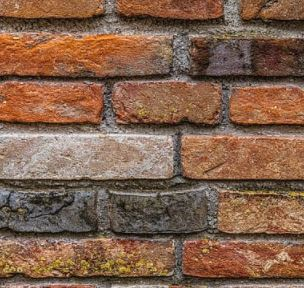brick: (1, 134, 176, 180), (1, 34, 177, 78), (1, 238, 176, 281), (181, 135, 304, 181), (188, 32, 304, 79), (113, 81, 221, 128), (180, 240, 304, 280), (110, 189, 212, 234), (1, 82, 107, 125), (1, 188, 103, 231), (216, 189, 304, 235), (225, 87, 304, 128), (113, 1, 225, 21), (1, 1, 103, 21), (236, 1, 304, 23)
